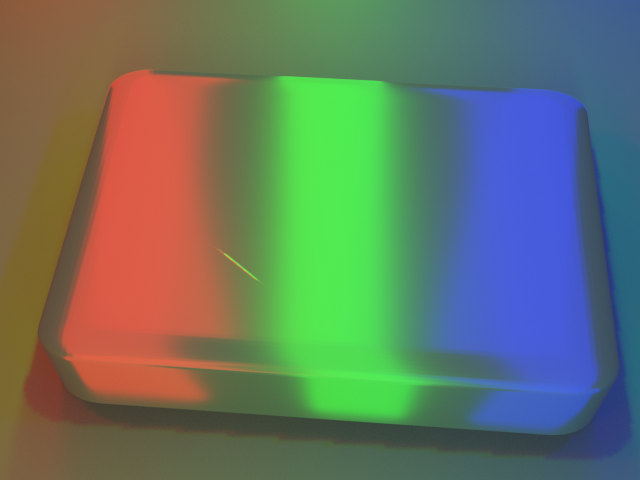scratch: (117, 205, 337, 335)
